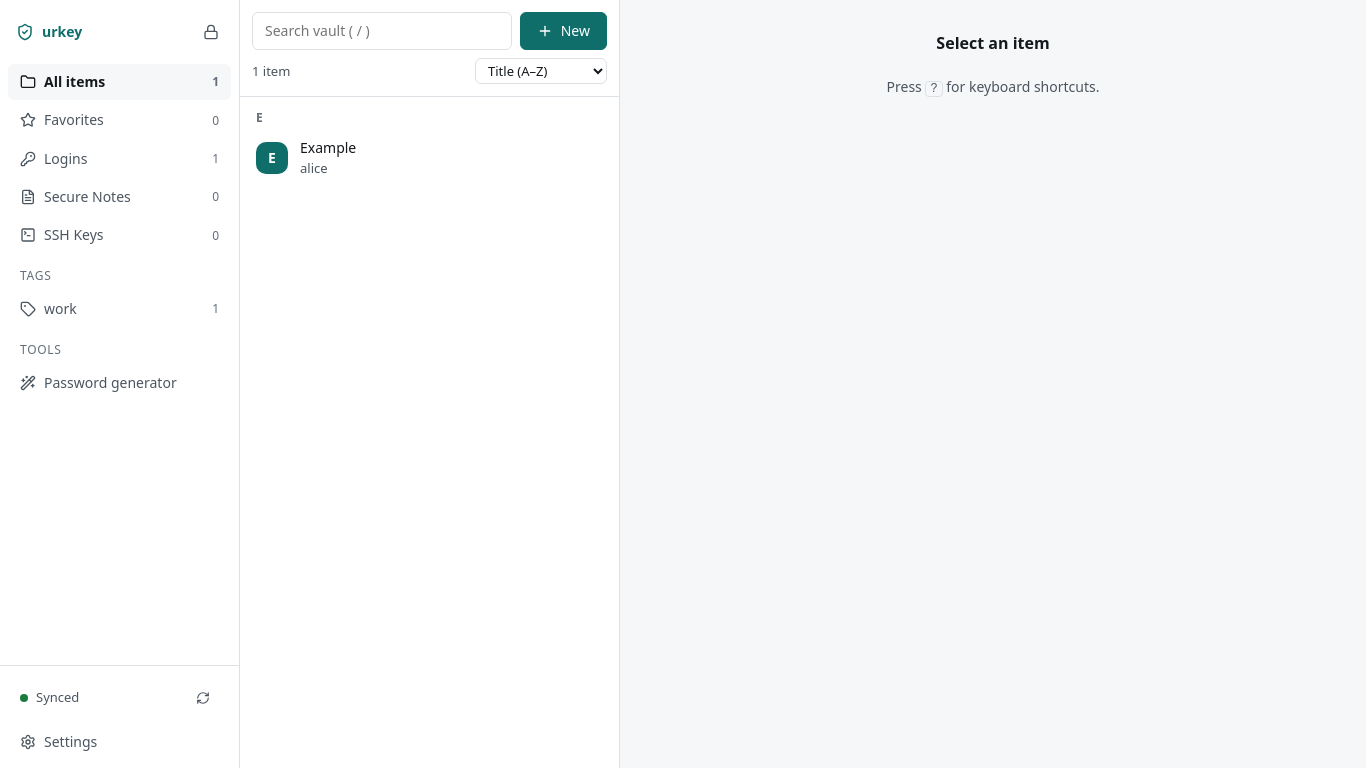
vault › filters by search and focuses search with /
Expected: the option "E Example alice" is shown, [256,138,356,177]
Press /
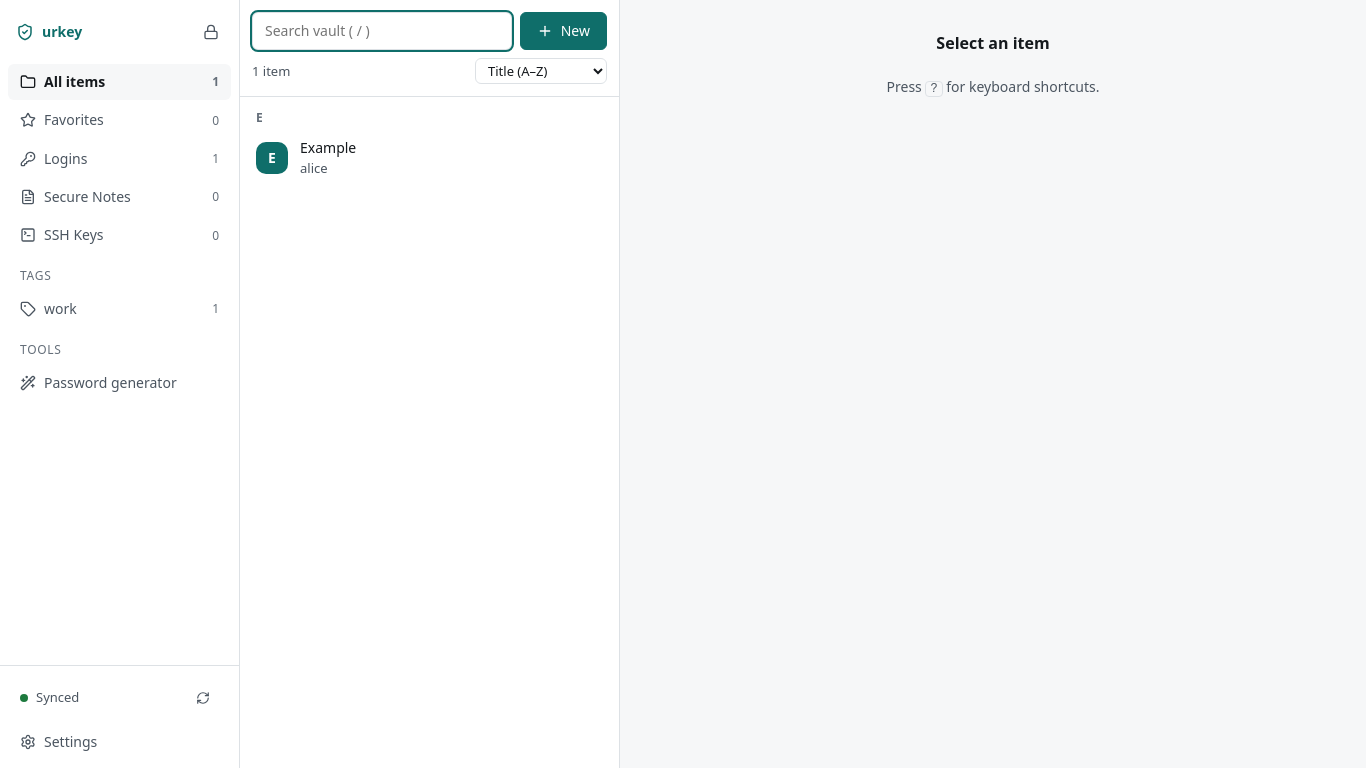
Type "nomatch" into the search field labelled "Search vault". click: (382, 31)
box: [252,12,512,50]
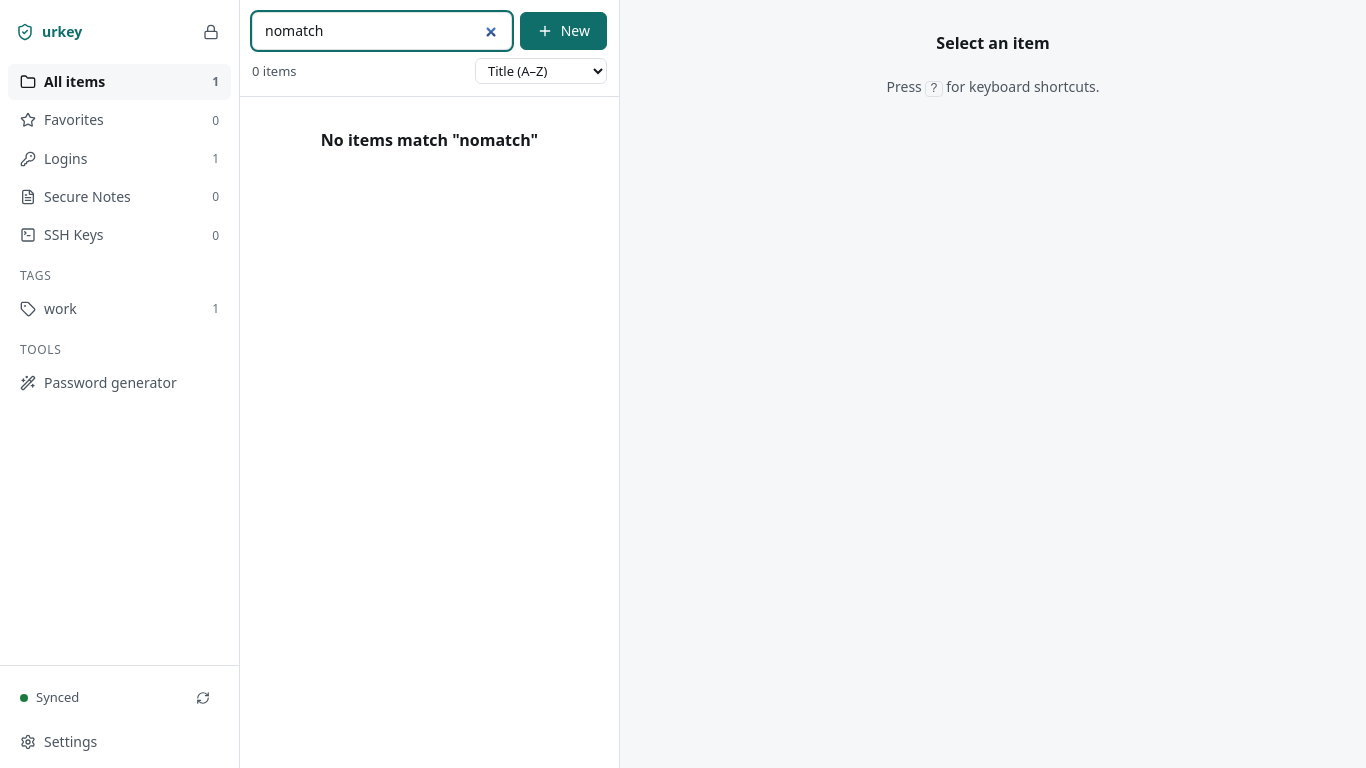
Result: the heading "No items match \"nomatch\"" is shown at [321,129,538,152]
Replace the text in the search field named "Search vault" with "alice". click: (382, 31)
box: [252,12,512,50]
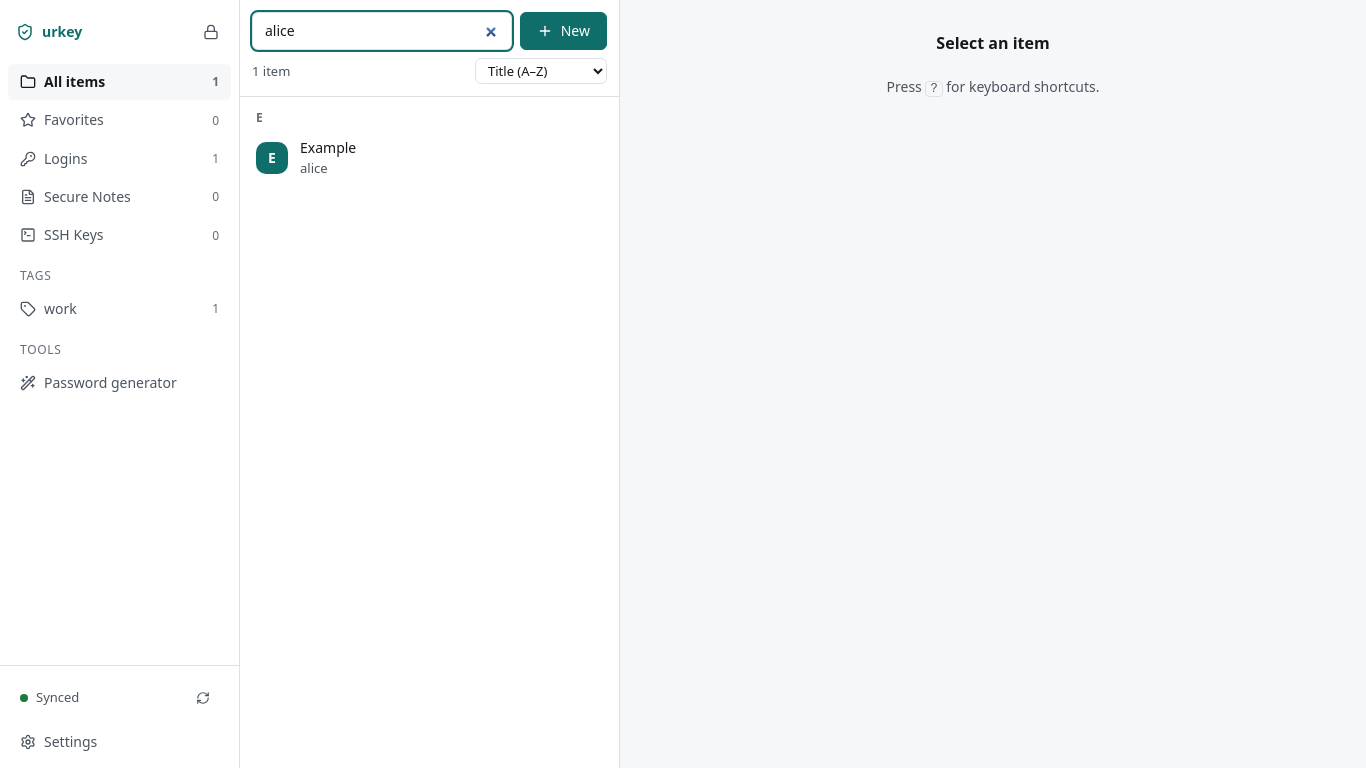
Result: the option "E Example alice" is shown at [256,138,356,177]
